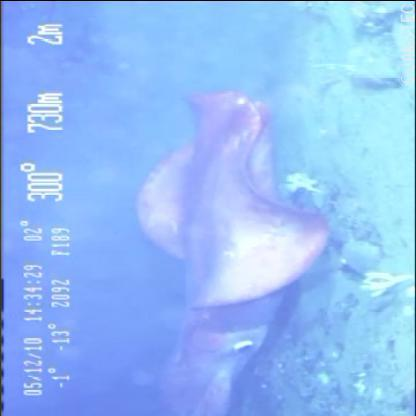Bio: (131, 83, 335, 415)
